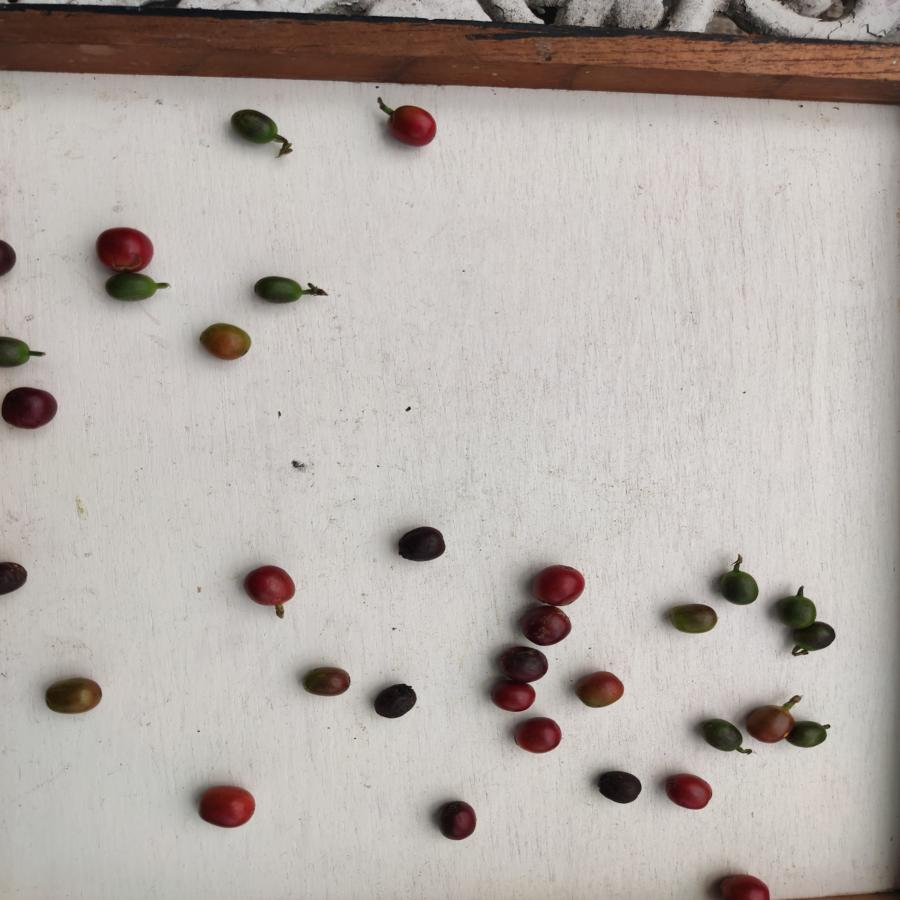Inmaduro: (229, 106, 285, 152), (104, 272, 163, 307), (252, 273, 305, 311), (715, 568, 761, 610), (791, 715, 831, 758), (793, 621, 837, 657), (778, 593, 818, 627)
Maduro: (93, 226, 158, 273), (195, 784, 255, 832), (242, 563, 298, 608), (386, 103, 436, 153), (662, 770, 716, 816), (710, 864, 779, 900), (529, 565, 588, 607), (512, 712, 563, 757), (491, 681, 537, 712)
Pinton: (575, 669, 626, 714), (199, 321, 253, 363), (43, 676, 102, 714), (743, 701, 789, 747), (670, 600, 720, 637), (303, 664, 351, 700)
Sobremaduro: (1, 381, 64, 433), (493, 642, 555, 685), (395, 522, 452, 567), (518, 606, 572, 650), (596, 764, 643, 807), (370, 682, 419, 721), (435, 799, 477, 842)
